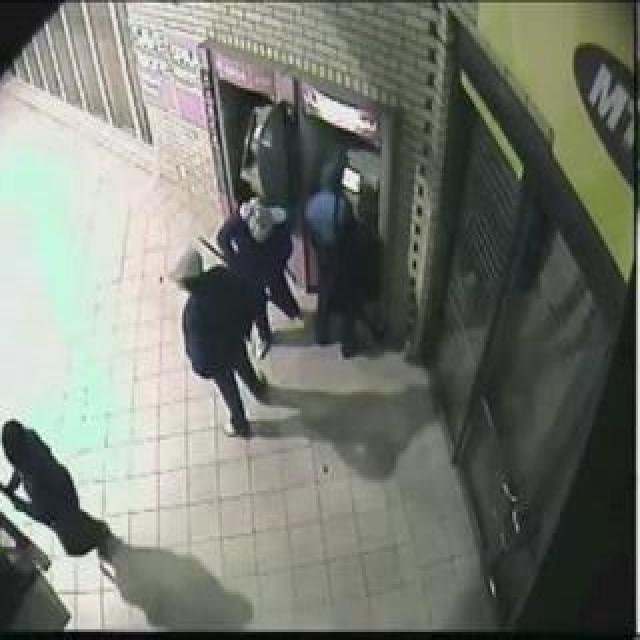thief: (193, 194, 374, 339), (4, 415, 63, 496)
